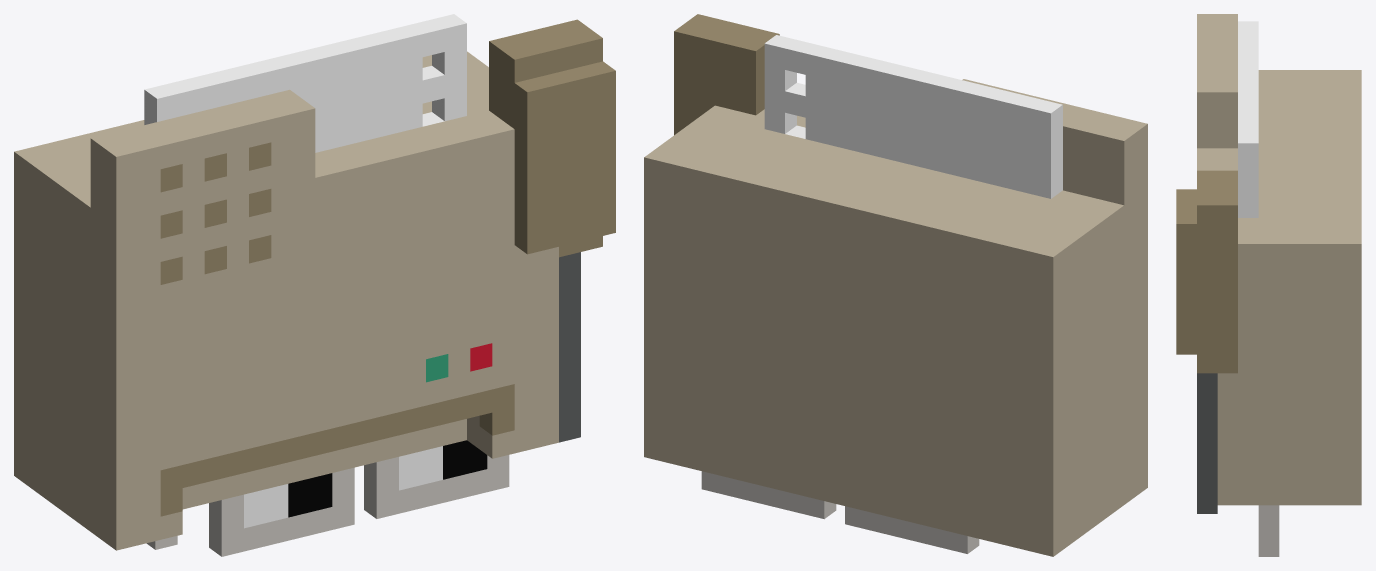
File: faxmachine.glb
3 renders of one model, left to right at view 1: azimuth 30°, elevation 25°; view 2: azimuth 150°, elevation 25°; view 3: azimuth 270°, elevation 25°, orthographic. The views are drawn at different scales.
Visible parts, largest first — view 1: base, phone, glasses, layer-2, in; view 2: base, phone, glasses; view 3: base, phone, glasses.
Boxes of the visible parts, x1,y1,x2,y2 form: base: [14, 14, 558, 550]; phone: [489, 19, 615, 442]; glasses: [146, 455, 509, 556]; layer-2: [244, 440, 487, 528]; in: [160, 142, 271, 284]; base: [644, 35, 1147, 556]; phone: [674, 14, 779, 135]; glasses: [701, 471, 979, 553]; base: [1197, 14, 1361, 505]; phone: [1176, 170, 1237, 513]; glasses: [1258, 505, 1279, 556].
Bounding box in the file's own units: 22 × 21 × 9.
Materials: 13 (13 with a texture image).
